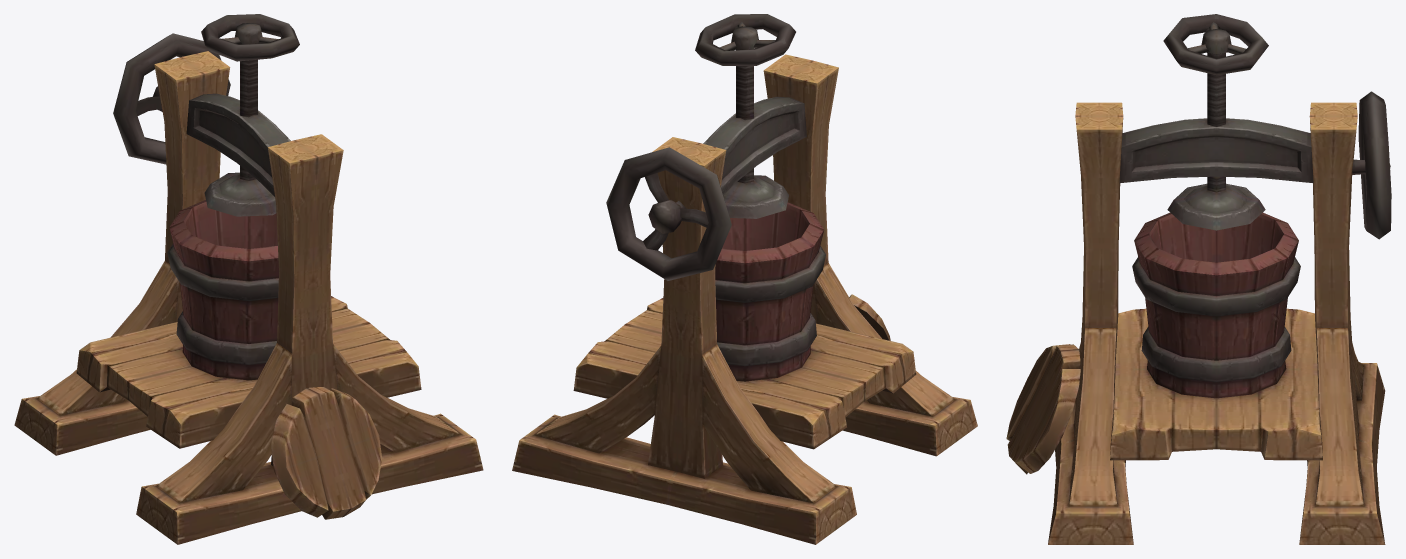
The picture shows the model from 3 angles, left to right: view 1: azimuth 30°, elevation 25°; view 2: azimuth 150°, elevation 25°; view 3: azimuth 270°, elevation 25°; orthographic projection. The views are drawn at different scales.
Size of the model in its own units: 1.37 by 1.82 by 1.45.
Materials: 1 (1 with a texture image).
